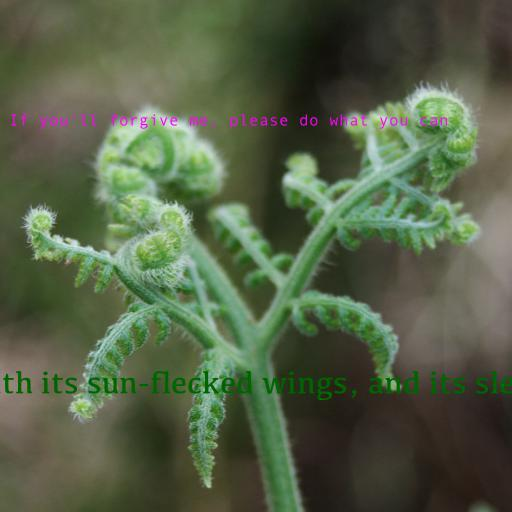Andale Mono: (9, 114, 449, 129)
Kefa: (0, 371, 512, 401)
